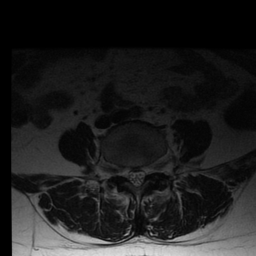CCS_normal: (134, 163, 140, 191)
LFS_normal: (147, 156, 154, 179)
LLS_normal: (140, 164, 146, 186)
RFS_normal: (118, 158, 126, 182)
RLS_normal: (127, 163, 134, 186)
